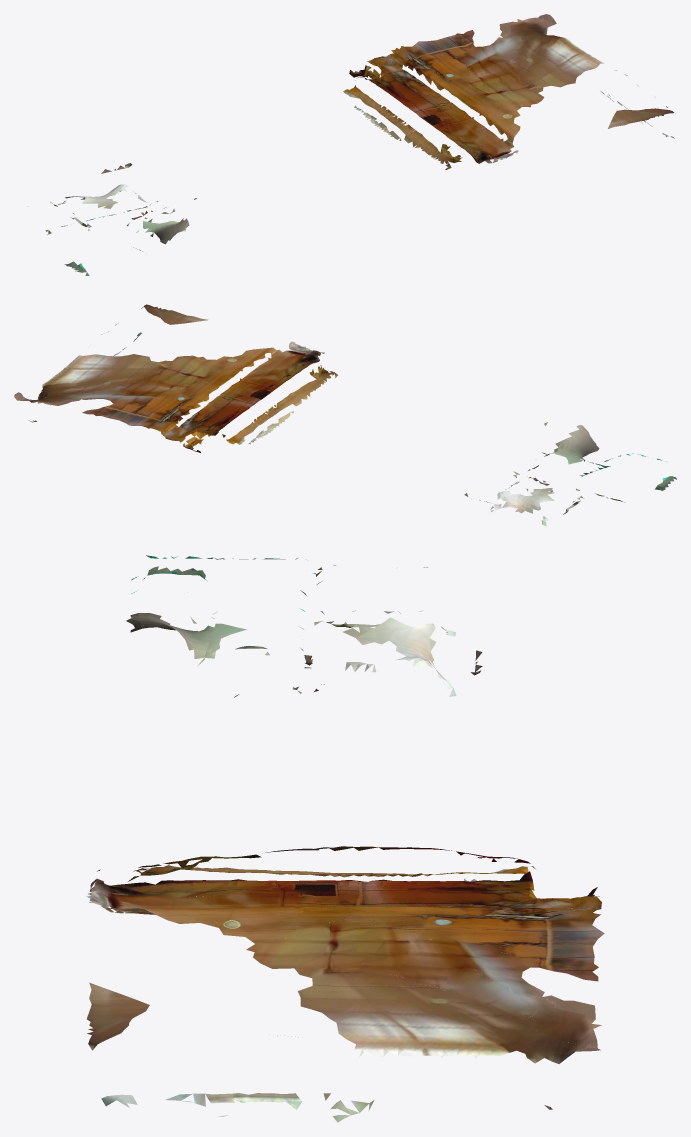
Rendered from esc_baja_techo_01.glb.
The picture shows the model from 3 angles, top to bottom: view 1: azimuth 30°, elevation 25°; view 2: azimuth 150°, elevation 25°; view 3: azimuth 270°, elevation 25°; orthographic projection. The views are drawn at different scales.
Parts seen in each view (by area): view 1: techo_Planta_principal_1_GLTF, techo_Planta_principal_1_GLTF_11, techo_Planta_principal_1_GLTF_8, techo_Planta_principal_1_GLTF_15, techo_Planta_principal_1_GLTF_14, techo_Planta_principal_1_GLTF_3, techo_Planta_principal_1_GLTF_1, techo_Planta_principal_1_GLTF_12; view 2: techo_Planta_principal_1_GLTF, techo_Planta_principal_1_GLTF_11, techo_Planta_principal_1_GLTF_8, techo_Planta_principal_1_GLTF_15, techo_Planta_principal_1_GLTF_3, techo_Planta_principal_1_GLTF_14, techo_Planta_principal_1_GLTF_1, techo_Planta_principal_1_GLTF_12; view 3: techo_Planta_principal_1_GLTF, techo_Planta_principal_1_GLTF_11, techo_Planta_principal_1_GLTF_8, techo_Planta_principal_1_GLTF_15, techo_Planta_principal_1_GLTF_14, techo_Planta_principal_1_GLTF_12, techo_Planta_principal_1_GLTF_5.
Boxes of the visible parts, x1,y1,x2,y2 form: techo_Planta_principal_1_GLTF: (61, 21, 520, 226); techo_Planta_principal_1_GLTF_11: (177, 25, 673, 223); techo_Planta_principal_1_GLTF_8: (47, 17, 556, 235); techo_Planta_principal_1_GLTF_15: (70, 75, 498, 244); techo_Planta_principal_1_GLTF_14: (349, 14, 643, 162); techo_Planta_principal_1_GLTF_3: (50, 74, 438, 226); techo_Planta_principal_1_GLTF_1: (45, 101, 451, 234); techo_Planta_principal_1_GLTF_12: (608, 109, 647, 128); techo_Planta_principal_1_GLTF: (46, 347, 547, 485); techo_Planta_principal_1_GLTF_11: (32, 332, 560, 452); techo_Planta_principal_1_GLTF_8: (19, 355, 625, 502); techo_Planta_principal_1_GLTF_15: (223, 350, 599, 512); techo_Planta_principal_1_GLTF_3: (191, 381, 580, 514); techo_Planta_principal_1_GLTF_14: (14, 341, 324, 452); techo_Planta_principal_1_GLTF_1: (29, 372, 658, 502); techo_Planta_principal_1_GLTF_12: (157, 310, 207, 324); techo_Planta_principal_1_GLTF: (103, 558, 604, 1019); techo_Planta_principal_1_GLTF_11: (149, 613, 577, 1115); techo_Planta_principal_1_GLTF_8: (246, 573, 601, 1059); techo_Planta_principal_1_GLTF_15: (89, 613, 530, 897); techo_Planta_principal_1_GLTF_14: (86, 876, 601, 1122); techo_Planta_principal_1_GLTF_12: (87, 982, 149, 1022); techo_Planta_principal_1_GLTF_5: (101, 612, 298, 1107).
Size of the model in its own units: 16.02 by 1.3 by 6.47.
Materials: 15 (15 with a texture image).
